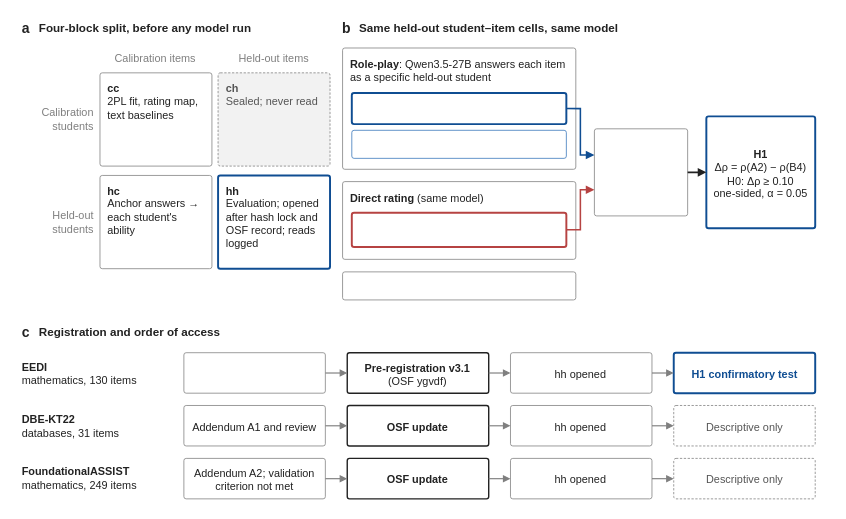
Image size: 846x519. Some labels were removed from this diagram. Each missing label, with the centre of its shape:
A1 population ability · A0 fixed level: [458,143]
A2 (H1 arm): stated accuracy from the student's hc ability: [458,107]
B1–B3 text baselines (2PL, embedding, TF-IDF): [459,285]
B4 : “% of students correct” rating, isotonic map to proportion: [458,229]
Calibration fits and design validation: [254,372]
Spearman ρ with real proportion correct on hh: [640,172]
